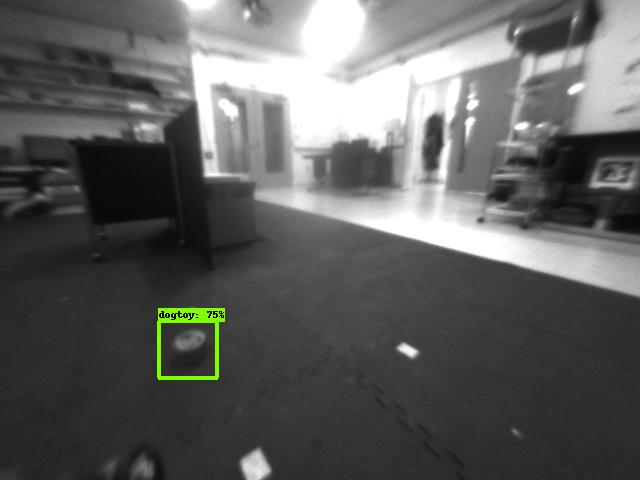dogtoy: (152, 323, 221, 375)
